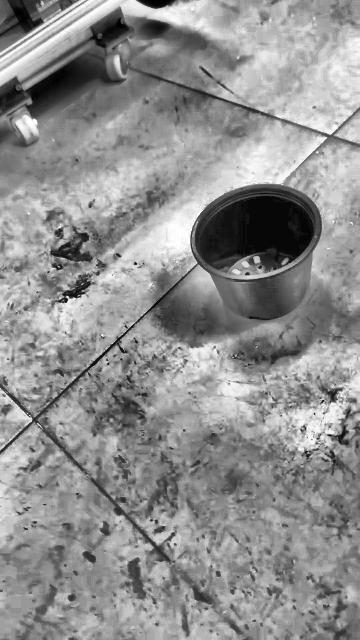pot: (191, 184, 321, 319)
